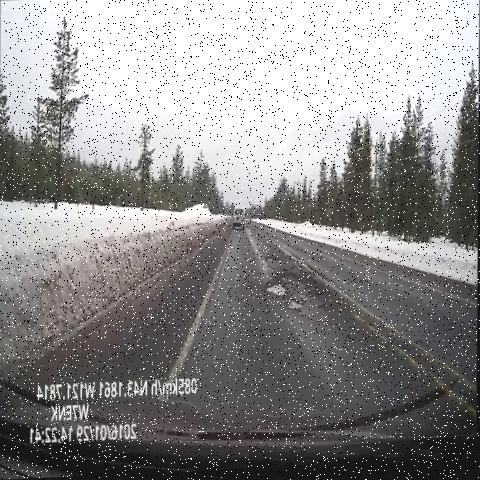pothole: (262, 266, 334, 336), (258, 245, 281, 269)
